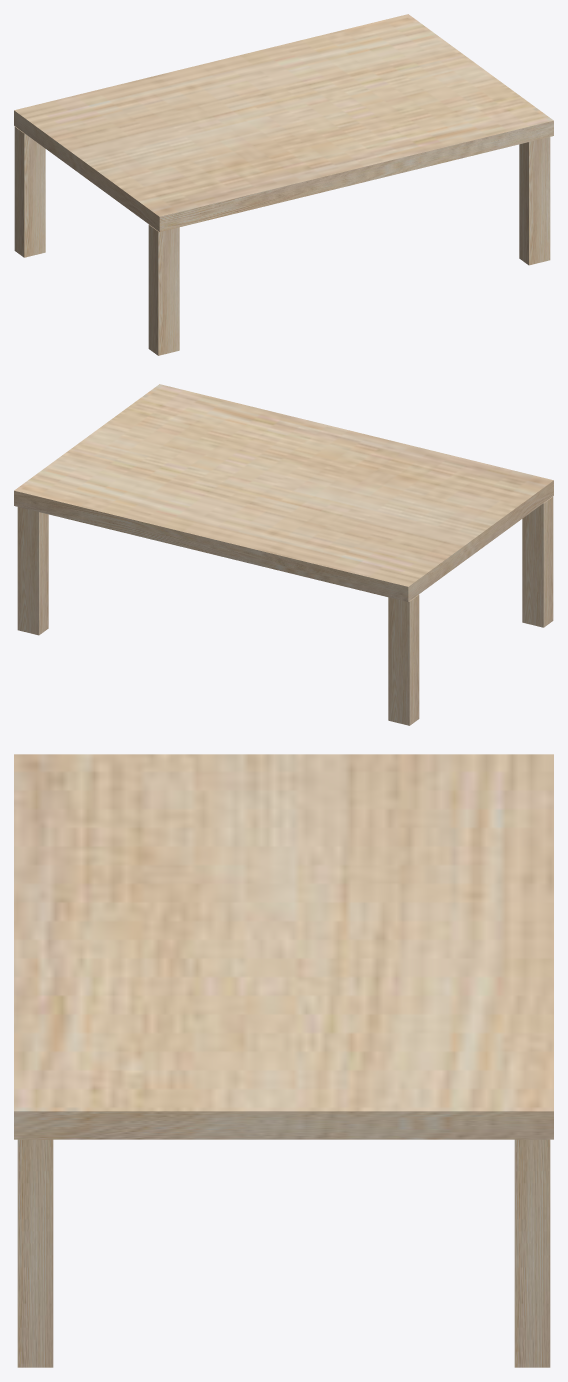
Rendered from desck.glb.
3 views of the same model, one above another, from view 1: azimuth 30°, elevation 25°; view 2: azimuth 150°, elevation 25°; view 3: azimuth 270°, elevation 25° (orthographic). The views are drawn at different scales.
Visible parts, largest first — view 1: deck; view 2: deck; view 3: deck.
Part boxes in pixels (x1,y1,x2,y2): deck: (14, 14, 553, 355); deck: (14, 384, 553, 725); deck: (14, 754, 553, 1367).
Bounding box in the file's own units: 5.94 × 2.01 × 3.79.
1 material, 1 textured.
